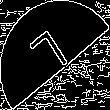L_SE: (30, 25, 80, 85)
